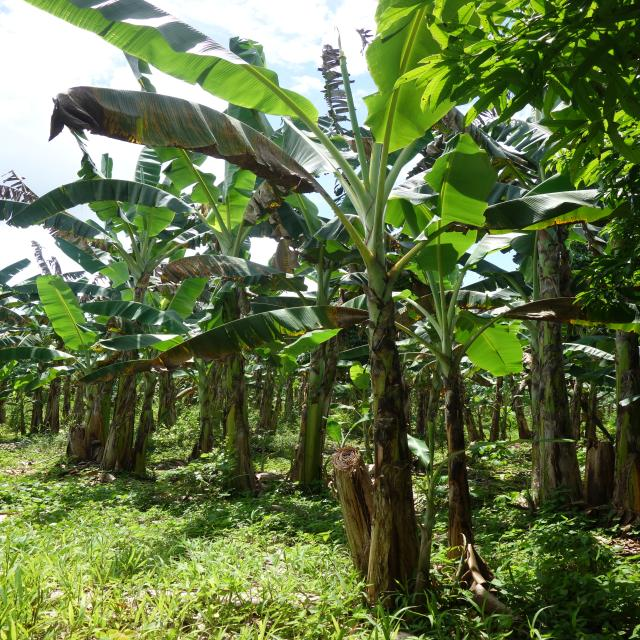Banana-plant: (352, 214, 423, 608), (529, 125, 588, 519), (195, 225, 255, 500), (431, 364, 494, 560), (294, 334, 340, 486)
